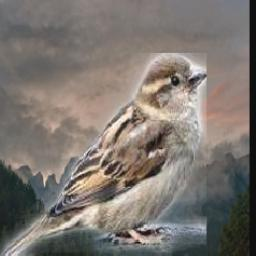Sparrow: (0, 53, 208, 256)
